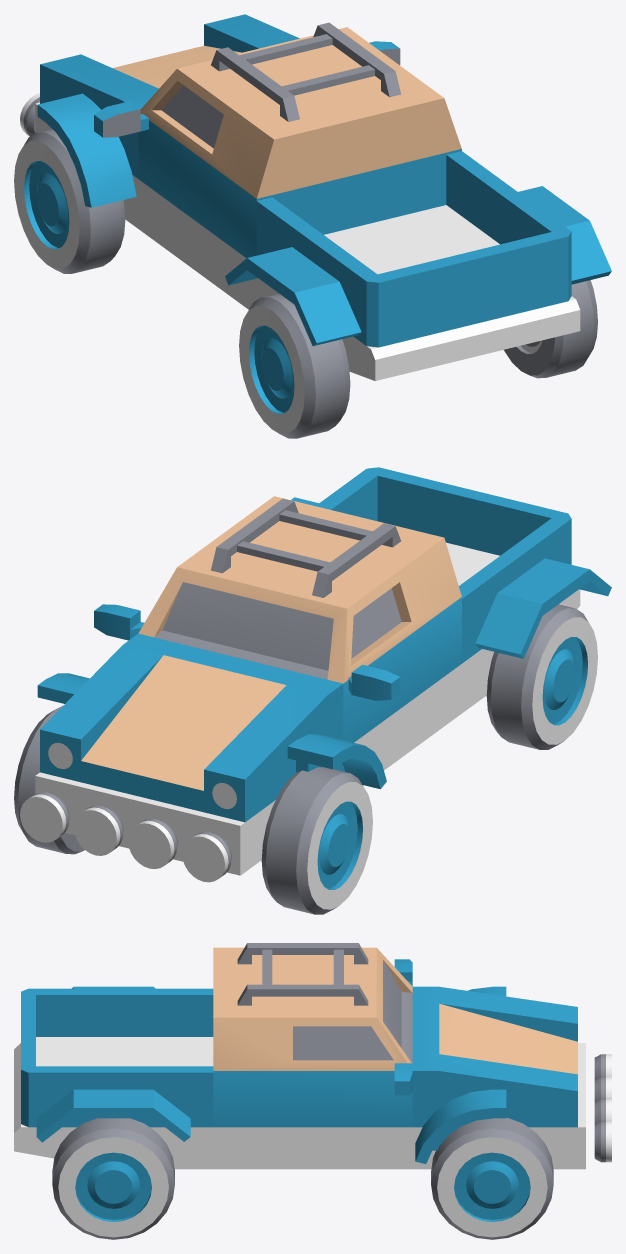
File: Truck.gltf
3 views of the same model, one above another, from view 1: azimuth 30°, elevation 25°; view 2: azimuth 150°, elevation 25°; view 3: azimuth 270°, elevation 25° (orthographic). The views are drawn at different scales.
Parts seen in each view (by area): view 1: windshield_square_0Mesh, trunk_bed_1Mesh, wheel_smallVintage%_8Mesh, wheel_smallVintage%_7Mesh, hood_square_2Mesh, detail_fenderSquare_10Mesh, detail_roofDoubleRails%_3Mesh, detail_fenderHalf%_11Mesh, wheel_smallVintage%_6Mesh, detail_fenderSquare_9Mesh, detail_mirror_14Mesh; view 2: hood_square_2Mesh, windshield_square_0Mesh, trunk_bed_1Mesh, wheel_smallVintage%_7Mesh, wheel_smallVintage%_8Mesh, detail_roofLights%_4Mesh, detail_fenderSquare_10Mesh, detail_roofDoubleRails%_3Mesh, detail_fenderHalf%_11Mesh, wheel_smallVintage%_5Mesh, detail_mirror_14Mesh, detail_mirror_13Mesh (+1 smaller); view 3: windshield_square_0Mesh, trunk_bed_1Mesh, hood_square_2Mesh, wheel_smallVintage%_6Mesh, wheel_smallVintage%_5Mesh, detail_fenderSquare_9Mesh, detail_roofDoubleRails%_3Mesh, detail_fenderHalf%_12Mesh, detail_roofLights%_4Mesh, detail_mirror_13Mesh.
Boxes of the visible parts, box(x1,y1,x2,y2) form: windshield_square_0Mesh: box(138, 27, 461, 309); trunk_bed_1Mesh: box(256, 151, 580, 380); wheel_smallVintage%_8Mesh: box(239, 293, 350, 438); wheel_smallVintage%_7Mesh: box(14, 129, 125, 273); hood_square_2Mesh: box(35, 14, 299, 228); detail_fenderSquare_10Mesh: box(225, 247, 361, 346); detail_roofDoubleRails%_3Mesh: box(211, 22, 401, 121); detail_fenderHalf%_11Mesh: box(37, 93, 136, 207); wheel_smallVintage%_6Mesh: box(504, 280, 597, 378); detail_fenderSquare_9Mesh: box(518, 186, 611, 284); detail_mirror_14Mesh: box(94, 101, 148, 137); hood_square_2Mesh: box(35, 633, 343, 875); windshield_square_0Mesh: box(138, 496, 461, 785); trunk_bed_1Mesh: box(315, 467, 580, 713); wheel_smallVintage%_7Mesh: box(261, 767, 372, 914); wheel_smallVintage%_8Mesh: box(486, 604, 597, 749); detail_roofLights%_4Mesh: box(20, 792, 231, 882); detail_fenderSquare_10Mesh: box(475, 558, 611, 658); detail_roofDoubleRails%_3Mesh: box(211, 498, 400, 597); detail_fenderHalf%_11Mesh: box(287, 734, 386, 789); wheel_smallVintage%_5Mesh: box(14, 705, 84, 854); detail_mirror_14Mesh: box(348, 664, 400, 700); detail_mirror_13Mesh: box(94, 604, 144, 640); windshield_square_0Mesh: box(213, 947, 412, 1169); trunk_bed_1Mesh: box(14, 988, 213, 1169); hood_square_2Mesh: box(412, 986, 585, 1169); wheel_smallVintage%_6Mesh: box(52, 1118, 174, 1239); wheel_smallVintage%_5Mesh: box(431, 1118, 553, 1239); detail_fenderSquare_9Mesh: box(36, 1089, 190, 1142); detail_roofDoubleRails%_3Mesh: box(237, 943, 368, 1005); detail_fenderHalf%_12Mesh: box(415, 1089, 506, 1163); detail_roofLights%_4Mesh: box(594, 1054, 611, 1162); detail_mirror_13Mesh: box(394, 1063, 412, 1095).
Size of the model in its own units: 14.5 by 11.98 by 30.
